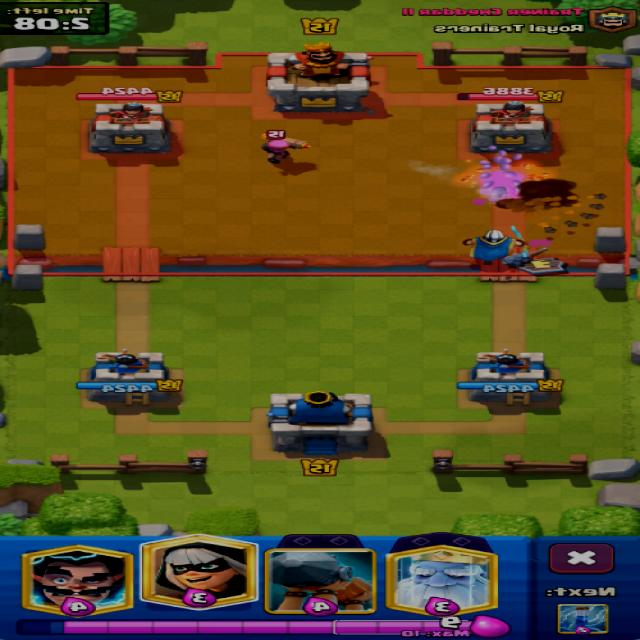Enemy-KingTower: (268, 43, 370, 113)
